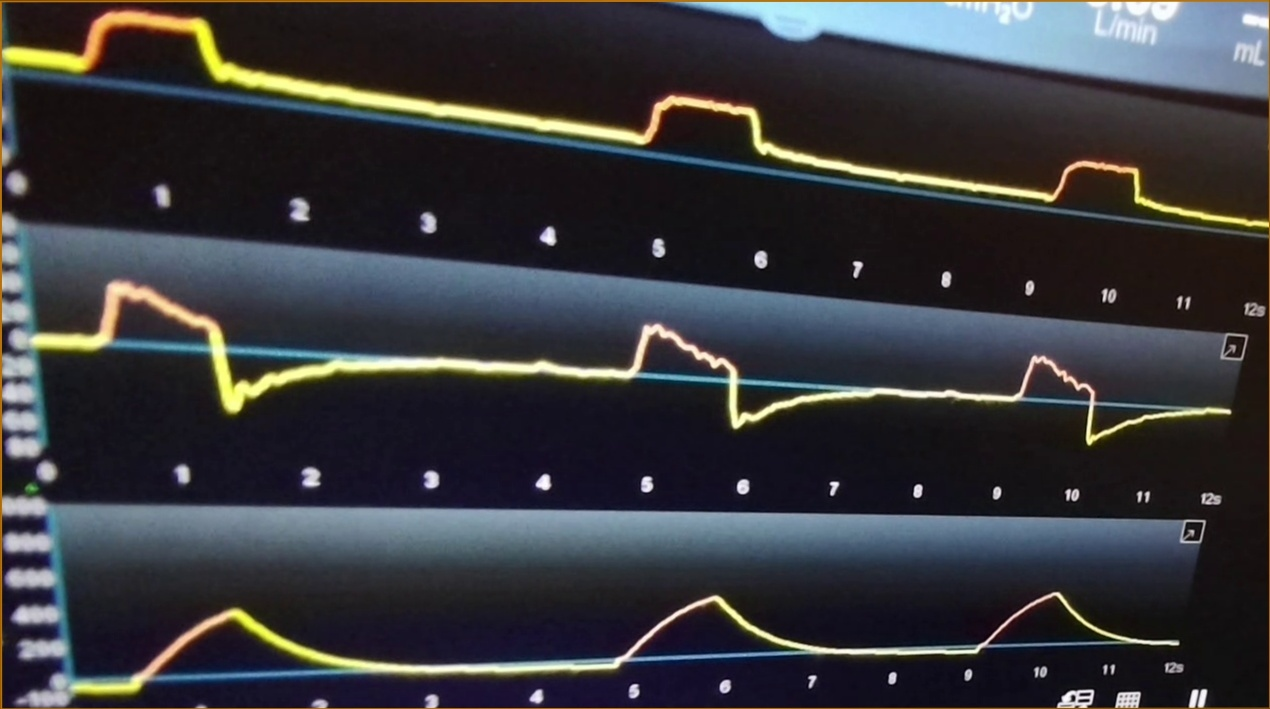Accumulation Flow: (43, 272, 1232, 445)
Volume: (75, 568, 1184, 698)
